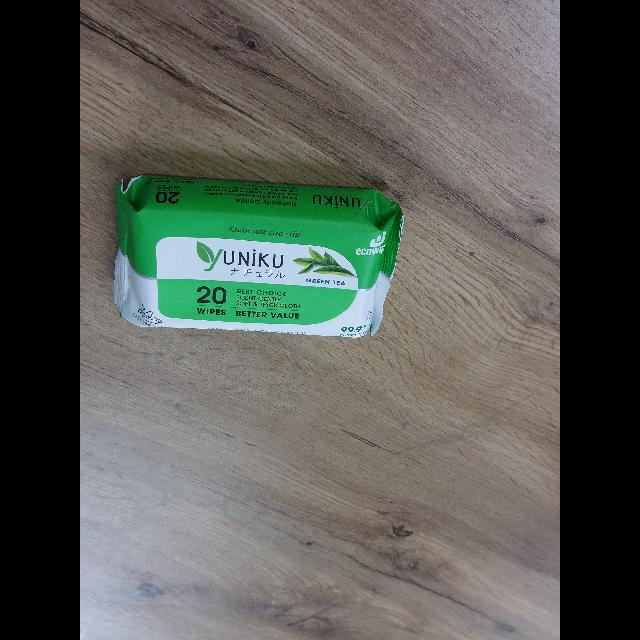khan_giay: (112, 171, 404, 337)
